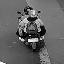motor: (16, 5, 47, 51)
